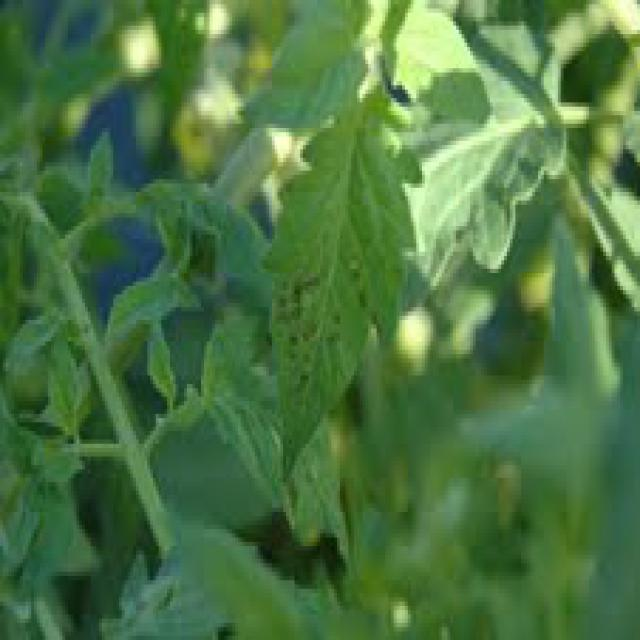Tomato leaf bacterial spot: (255, 59, 428, 490)
